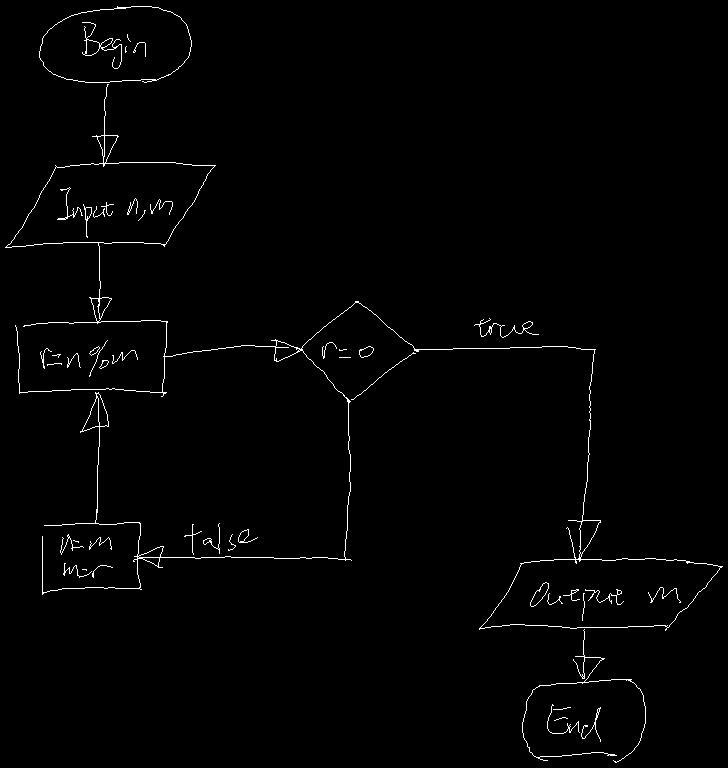arrow: (414, 346, 600, 563), (133, 399, 351, 567), (80, 392, 108, 523), (163, 339, 302, 361), (92, 84, 118, 166), (89, 242, 111, 323), (573, 629, 604, 683)
data: (5, 162, 215, 247), (479, 558, 722, 630)
decision: (296, 301, 418, 402)
process: (15, 320, 167, 396), (42, 522, 141, 594)
terminator: (39, 6, 191, 82), (522, 679, 645, 762)
text: (57, 187, 172, 237), (530, 582, 680, 620), (40, 340, 137, 376), (82, 22, 145, 68), (184, 523, 257, 554), (60, 534, 112, 577), (547, 704, 600, 741), (474, 318, 538, 337), (322, 342, 373, 358)
